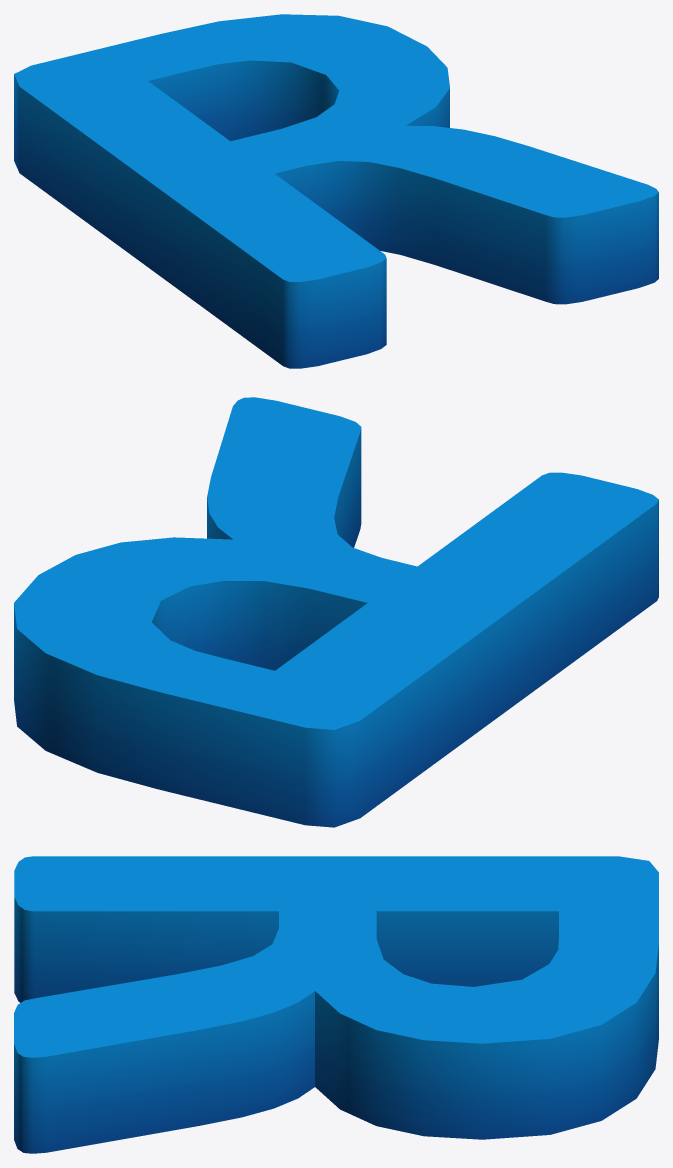
File: letter_R.fbx
3 views of the same model, one above another, from view 1: azimuth 30°, elevation 25°; view 2: azimuth 150°, elevation 25°; view 3: azimuth 270°, elevation 25° (orthographic). The views are drawn at different scales.
Visible parts, largest first — view 1: letter_R; view 2: letter_R; view 3: letter_R.
Boxes of the visible parts, bbox=[...] form: letter_R: bbox=[14, 14, 658, 368]; letter_R: bbox=[14, 397, 658, 827]; letter_R: bbox=[14, 856, 658, 1153].
Bounding box in the file's own units: 16.88 × 3.75 × 22.83.
